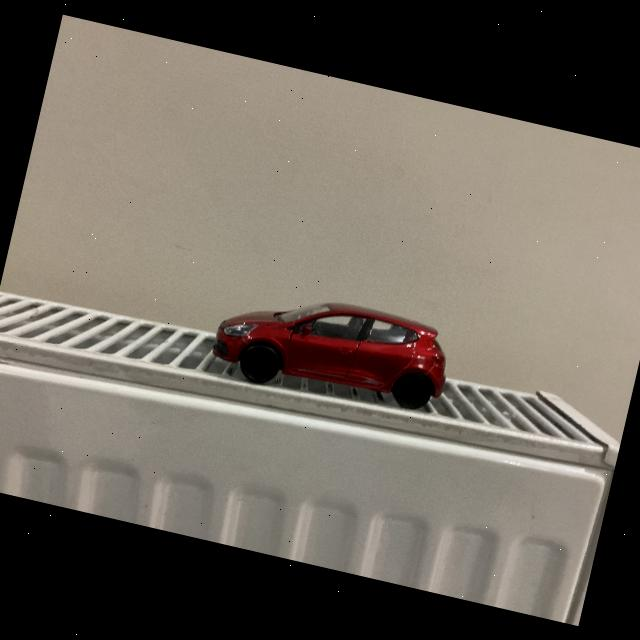Dogru_Jant: (240, 344, 280, 380), (395, 373, 428, 406)
